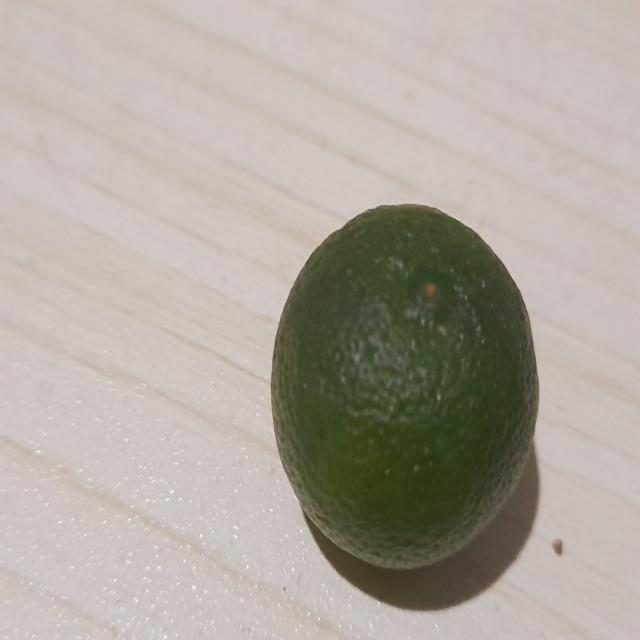heathy: (267, 196, 541, 580)
